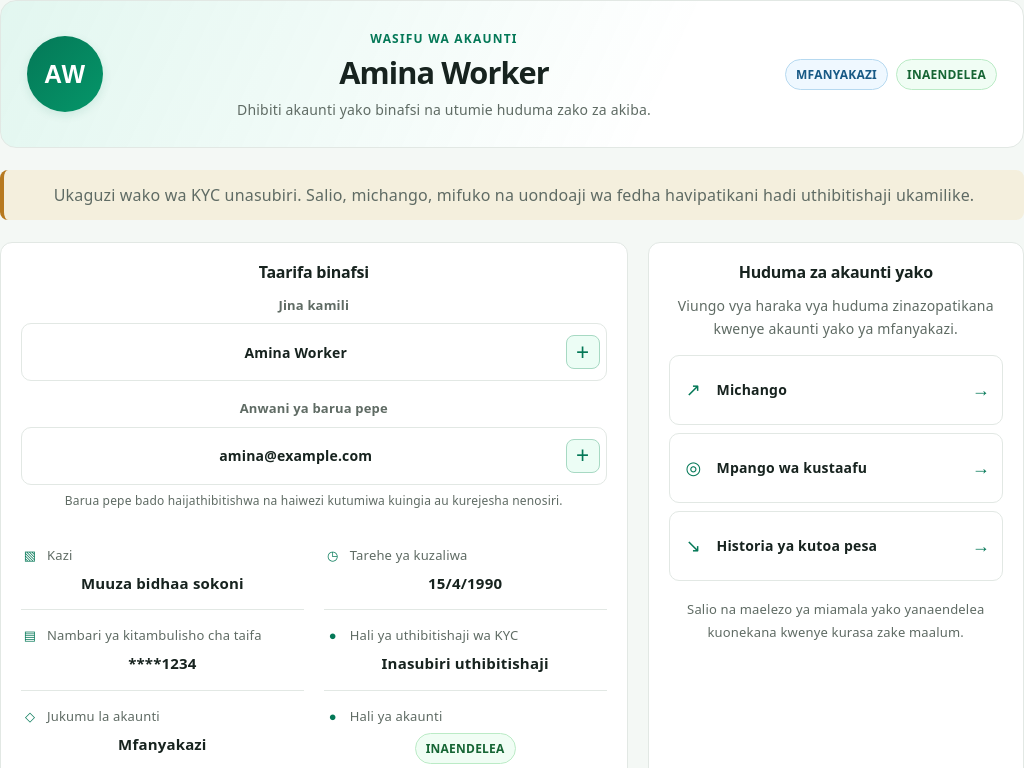
Test: shared ProfileCard › translates the worker profile while keeping personal data unchanged
The image size is (1024, 768).
Check: the heading "Amina Worker" is shown, box top-left (339, 51), bottom-right (549, 93)
Check: the heading "Taarifa binafsi" is shown, box top-left (259, 261), bottom-right (369, 283)
Click the button named "Hariri jina kamili". click: [582, 352]
box: top-left (566, 335), bottom-right (600, 369)
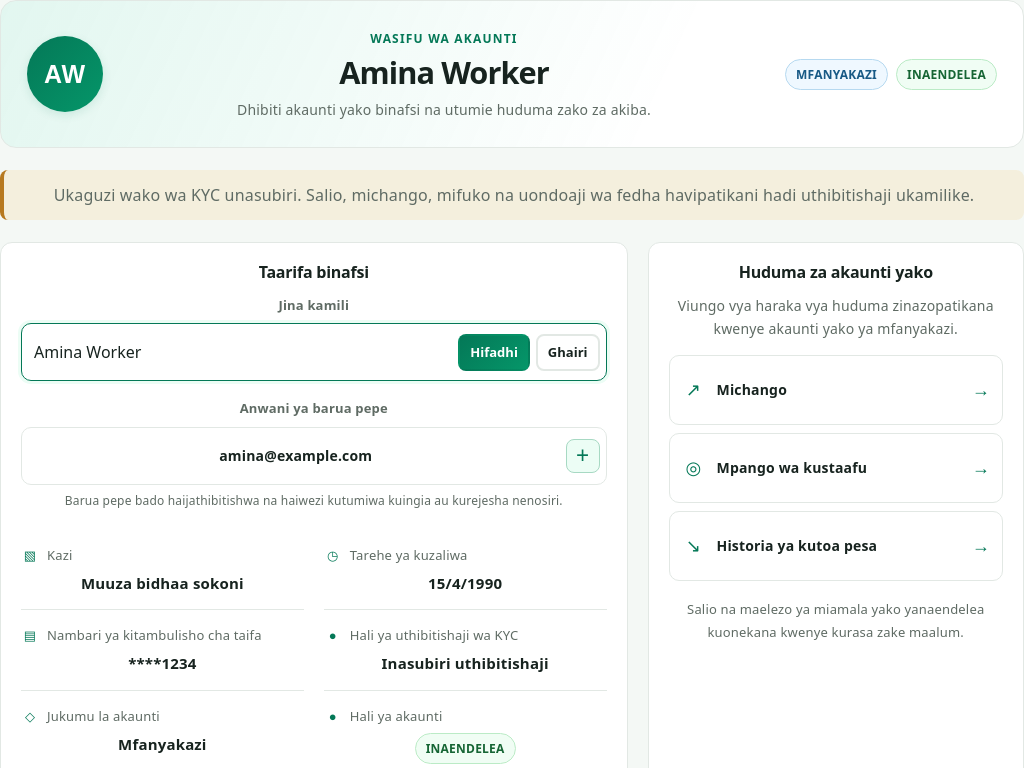
Check: the field labelled "Jina kamili" holds "Amina Worker", box top-left (34, 336), bottom-right (450, 369)
Check: the button "Hifadhi" is shown, box top-left (458, 334), bottom-right (530, 371)
